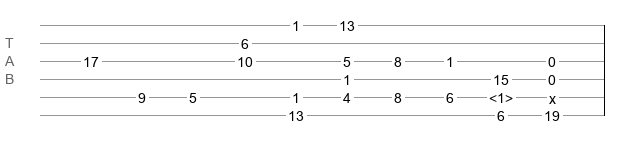0: (548, 54, 556, 64), (548, 72, 556, 82)
1: (292, 90, 300, 100), (292, 18, 300, 28), (343, 72, 351, 82), (446, 54, 454, 64)
10: (237, 54, 253, 64)
13: (288, 108, 304, 118), (339, 18, 355, 28)
15: (493, 72, 509, 82)
17: (83, 54, 99, 64)
19: (544, 108, 560, 118)
4: (343, 90, 351, 100)
5: (189, 90, 197, 100), (343, 54, 351, 64)
6: (241, 36, 249, 46), (446, 90, 454, 100), (497, 108, 505, 118)
8: (394, 90, 402, 100), (394, 54, 402, 64)
9: (138, 90, 146, 100)
harmonic: (489, 90, 513, 100)
x: (549, 91, 556, 99)
